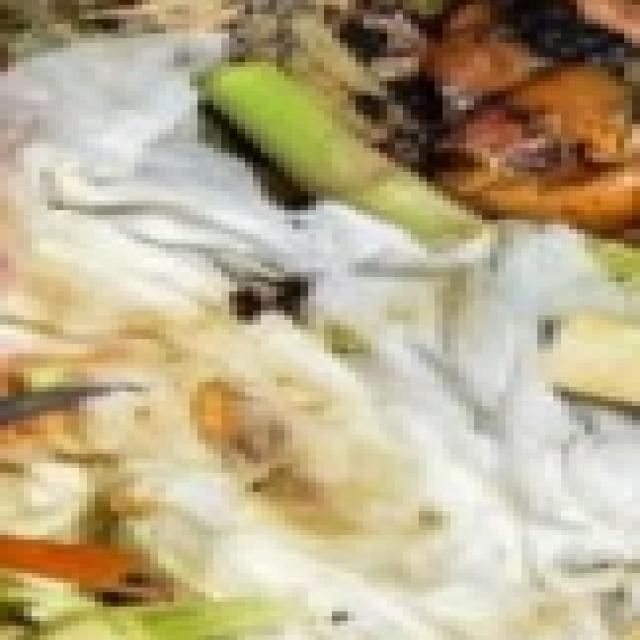food waste: (16, 0, 639, 622)
